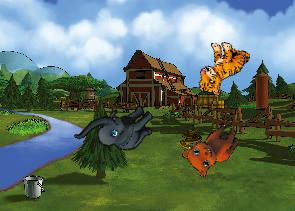bear: (177, 112, 244, 182)
elephant: (73, 84, 161, 173)
tiger: (195, 37, 251, 100)
